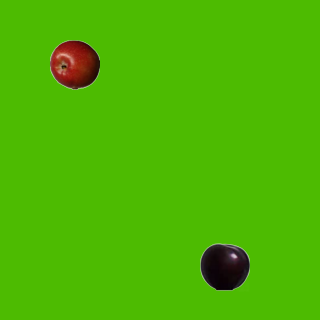Apple Braeburn: (49, 39, 99, 89)
Cherry Wax Black: (199, 241, 249, 291)
